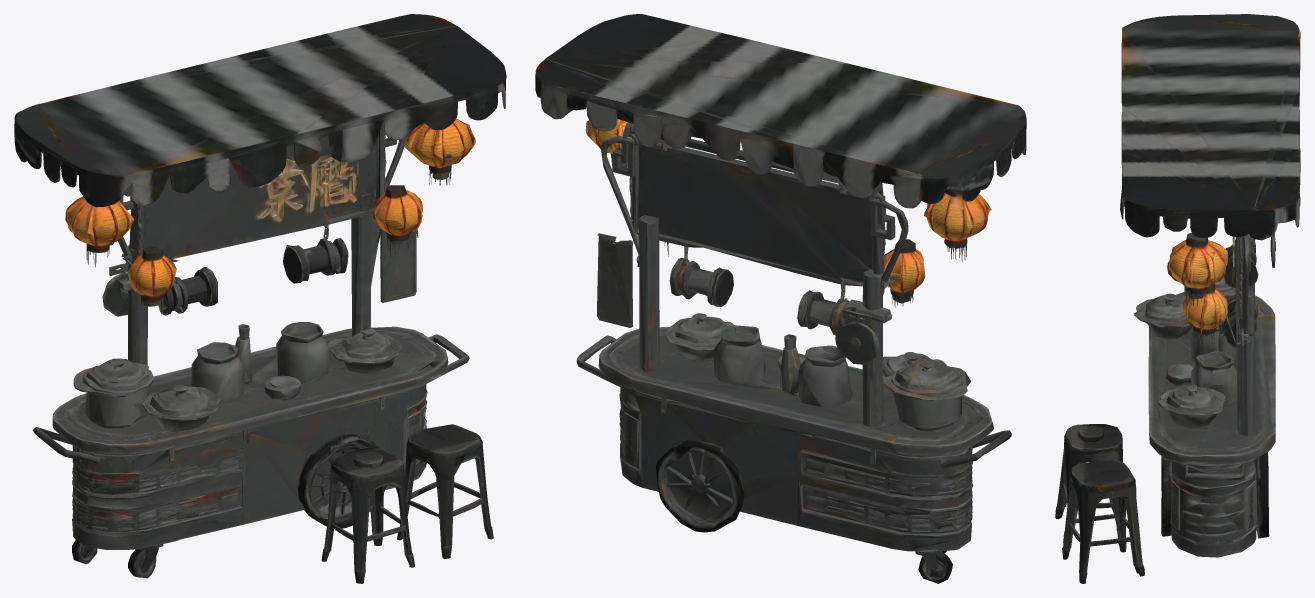
The model's file is mx_noodle_stall.glb.
3 views of the same model, side by side, from view 1: azimuth 30°, elevation 25°; view 2: azimuth 150°, elevation 25°; view 3: azimuth 270°, elevation 25° (orthographic). The views are drawn at different scales.
Size of the model in its own units: 1.9 by 1.83 by 1.
Materials: 1 (1 with a texture image).
